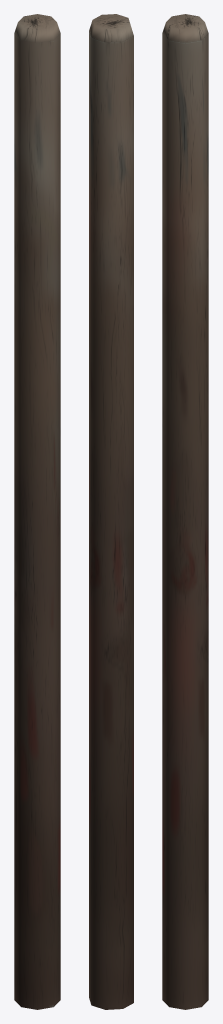
Rendered from md_utilitypole_v5.fbx.
The picture shows the model from 3 angles, left to right: view 1: azimuth 90°, elevation 25°; view 2: azimuth 210°, elevation 25°; view 3: azimuth 270°, elevation 25°; orthographic projection.
Visible parts, largest first — view 1: PoleLowPoly; view 2: PoleLowPoly; view 3: PoleLowPoly.
Boxes of the visible parts, bbox=[...] form: PoleLowPoly: bbox=[14, 14, 60, 1009]; PoleLowPoly: bbox=[89, 14, 133, 1009]; PoleLowPoly: bbox=[162, 14, 208, 1009].
Bounding box in the file's own units: 8.04 × 187 × 8.04.
Materials: 1 (1 with a texture image).
